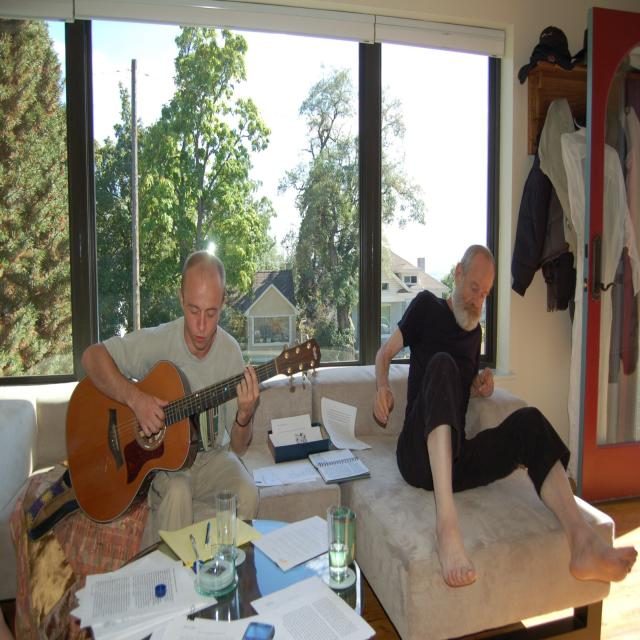guitar: (65, 336, 322, 522)
